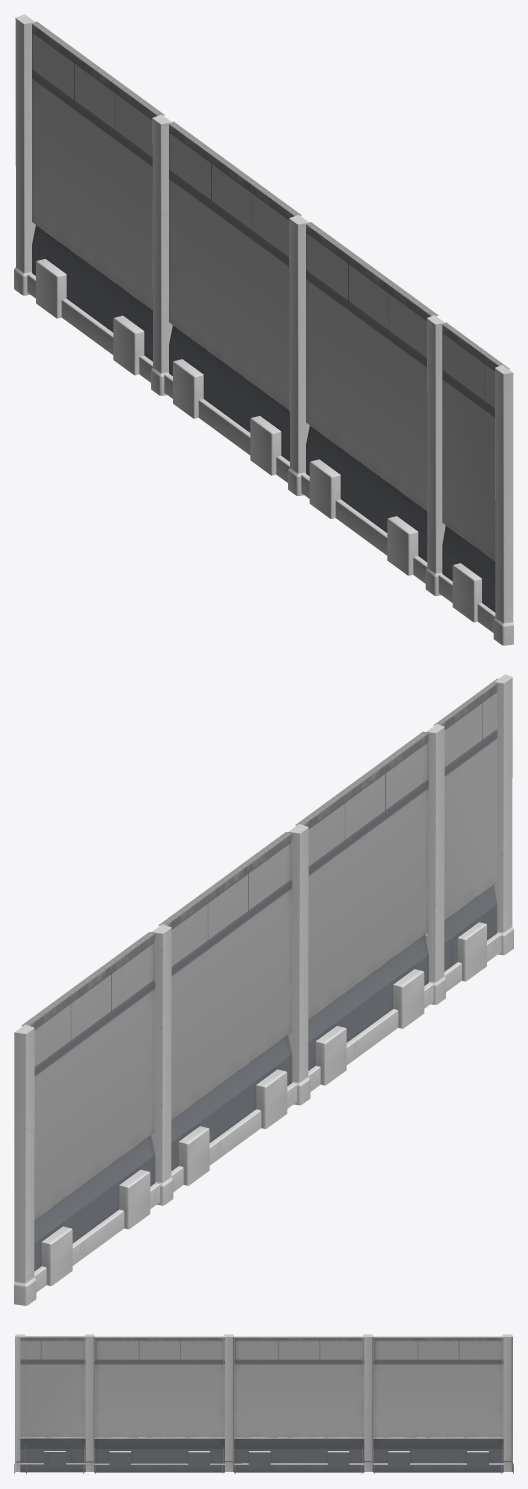
Rendered from Pfb_JALB_WallPart2_Line__2.fbx.
The picture shows the model from 3 angles, top to bottom: view 1: azimuth 30°, elevation 25°; view 2: azimuth 150°, elevation 25°; view 3: azimuth 270°, elevation 25°; orthographic projection. The views are drawn at different scales.
Visible parts, largest first — view 1: MAT_JLABWall; view 2: MAT_JLABWall; view 3: MAT_JLABWall.
Part boxes in pixels (x1=…): MAT_JLABWall: x1=14, y1=14, x2=513, y2=645; MAT_JLABWall: x1=14, y1=674, x2=513, y2=1305; MAT_JLABWall: x1=14, y1=1334, x2=513, y2=1474.
Bounding box in the file's own units: 0.2513 × 4.04 × 13.27.
1 material, 1 textured.
